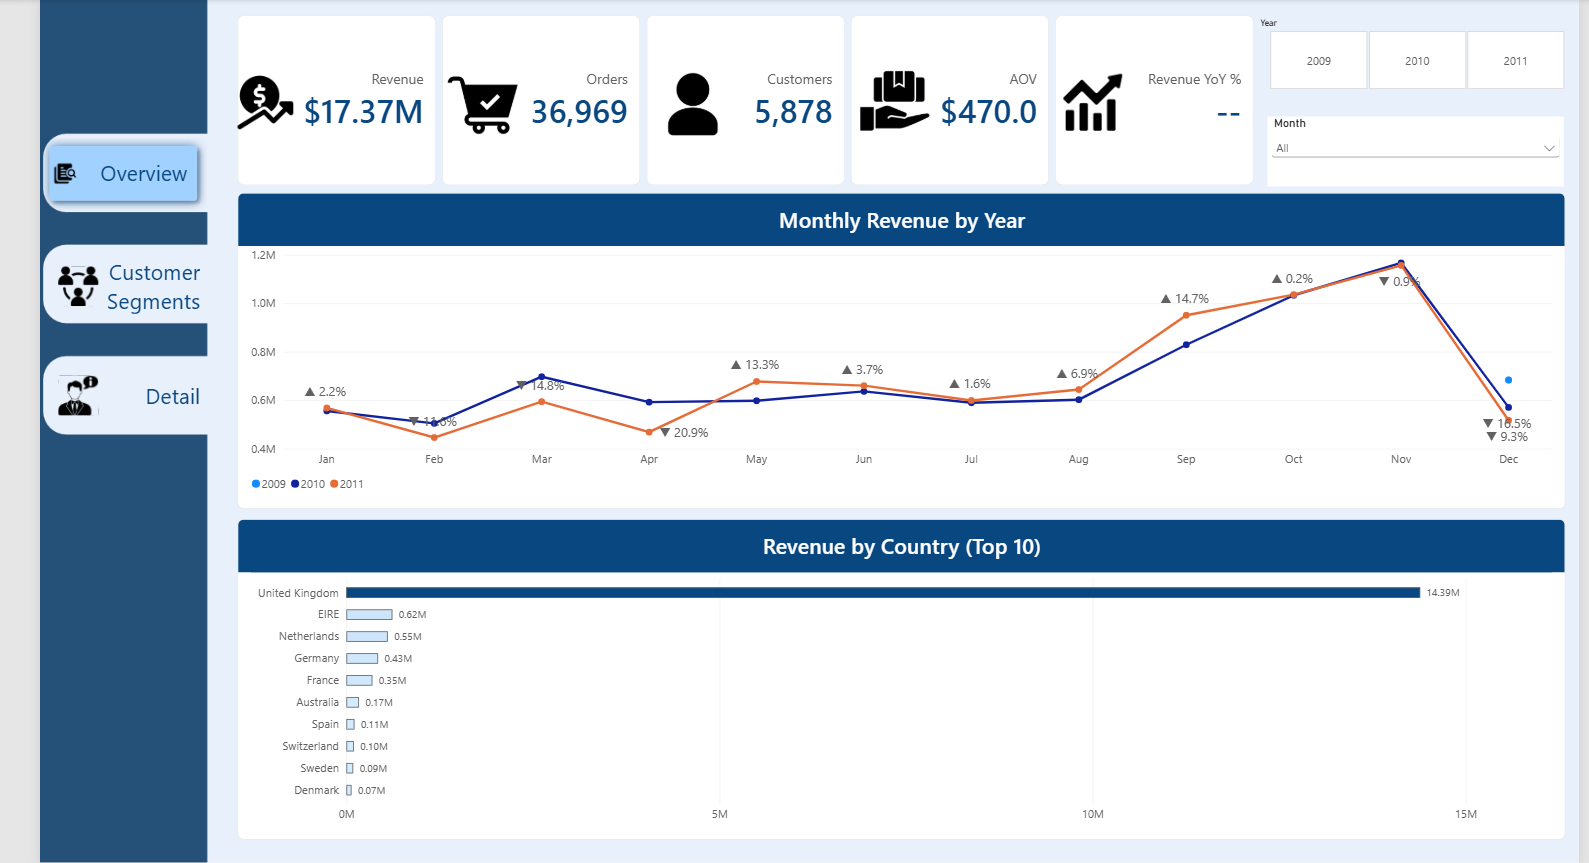

The dashboard page shown, as its layout file describes it:
{"tool":"powerbi","page":{"name":"Overview","canvas":[1920,1080],"ordinal":0},"visuals":[{"type":"cardVisual","fields":{"Data":["fact_sales.Doanh thu","fact_sales.Số đơn","fact_sales.Số khách","fact_sales.Giá trị đơn TB","fact_sales.Doanh thu YoY %"]},"box":[245.9,20.9,1268,212.8],"z":0},{"type":"lineChart","title":"Monthly Revenue by Year","fields":{"Category":["dim_date.Month"],"Series":["dim_date.Year"],"Y":["fact_sales.Doanh thu"]},"box":[246,242,1656,394],"z":1000},{"type":"barChart","title":"Revenue by Country (Top 10)","fields":{"Category":["fact_sales.country"],"Y":["fact_sales.Doanh thu"]},"box":[246,648,1656,400],"z":2000},{"type":"slicer","fields":{"Values":["dim_date.Year"]},"box":[1514,22.7,406.4,90.7],"z":3000},{"type":"slicer","fields":{"Values":["dim_date.Month Number"]},"box":[1531.4,146.5,369.8,87.2],"z":4000},{"type":"actionButton","title":"OVERVIEW","box":[0,172,208,92],"z":5000},{"type":"actionButton","title":"OVERVIEW","box":[18.9,312.5,193.2,92.8],"z":6000},{"type":"actionButton","title":"OVERVIEW","box":[18.9,448.8,193.2,90.9],"z":7000},{"type":"image","box":[245.9,90.7,69.8,75],"z":9000},{"type":"image","box":[494.3,89,115.5,87.1],"z":10000},{"type":"image","box":[1015.1,83.3,102.3,89],"z":11000},{"type":"image","box":[763.2,90.9,100.4,81.4],"z":12000},{"type":"image","box":[1268.3,91.7,88.3,73.3],"z":13000}]}

Visuals, with their boxes on the page's 1920x1080 design canvas (x1, y1, x2, y2). These are canvas units, not pixel positions in the 1589x863 screenshot, which may show the page scaled, cropped or inside an application window:
cardVisual - fact_sales.Doanh thu x fact_sales.Số đơn: [x1=246, y1=21, x2=1514, y2=234]
"Monthly Revenue by Year" lineChart: [x1=246, y1=242, x2=1902, y2=636]
"Revenue by Country (Top 10)" barChart: [x1=246, y1=648, x2=1902, y2=1048]
slicer - dim_date.Year: [x1=1514, y1=23, x2=1920, y2=113]
slicer - dim_date.Month Number: [x1=1531, y1=146, x2=1901, y2=234]
"OVERVIEW" actionButton: [x1=0, y1=172, x2=208, y2=264]
"OVERVIEW" actionButton: [x1=19, y1=312, x2=212, y2=405]
"OVERVIEW" actionButton: [x1=19, y1=449, x2=212, y2=540]
image: [x1=246, y1=91, x2=316, y2=166]
image: [x1=494, y1=89, x2=610, y2=176]
image: [x1=1015, y1=83, x2=1117, y2=172]
image: [x1=763, y1=91, x2=864, y2=172]
image: [x1=1268, y1=92, x2=1357, y2=165]
